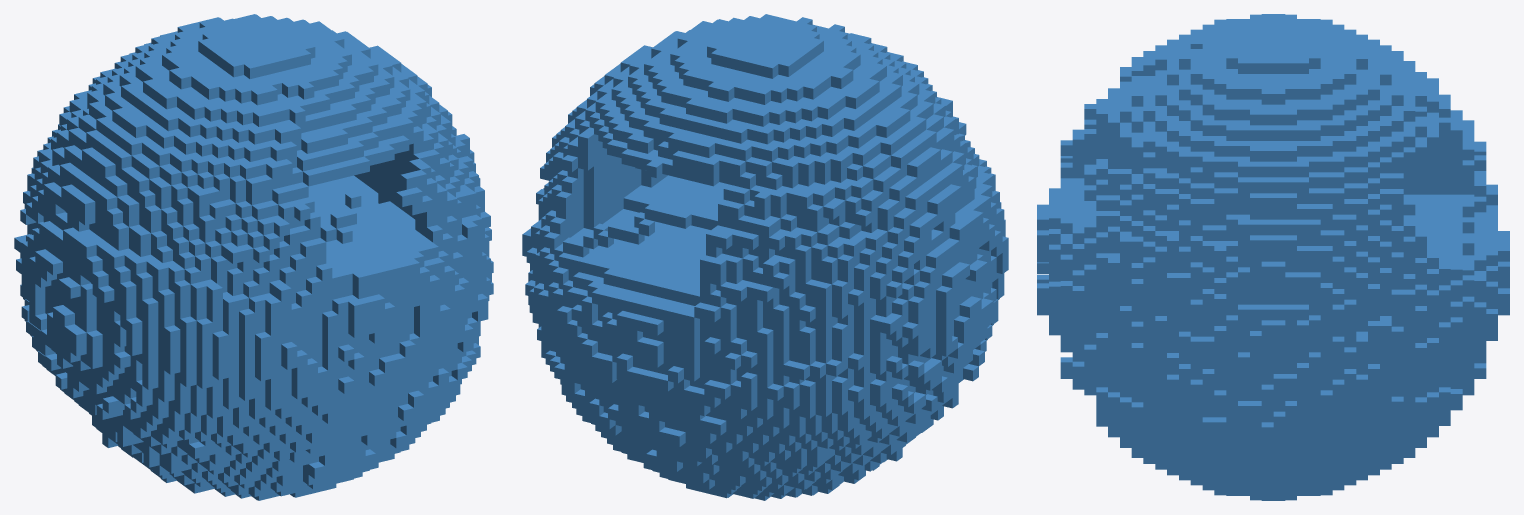
File: Gigante_Azul#4c94d3.dae
The picture shows the model from 3 angles, left to right: view 1: azimuth 30°, elevation 25°; view 2: azimuth 150°, elevation 25°; view 3: azimuth 270°, elevation 25°; orthographic projection.
Visible parts, largest first — view 1: Gigante_Azul#4c94d3; view 2: Gigante_Azul#4c94d3; view 3: Gigante_Azul#4c94d3.
Part boxes in pixels (x1,y1,x2,y2): Gigante_Azul#4c94d3: (14, 14, 493, 500); Gigante_Azul#4c94d3: (522, 14, 1008, 500); Gigante_Azul#4c94d3: (1037, 14, 1509, 500).
Size of the model in its own units: 4 by 4 by 4.
